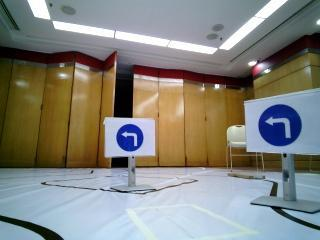left: (250, 97, 318, 148), (113, 123, 153, 153)
